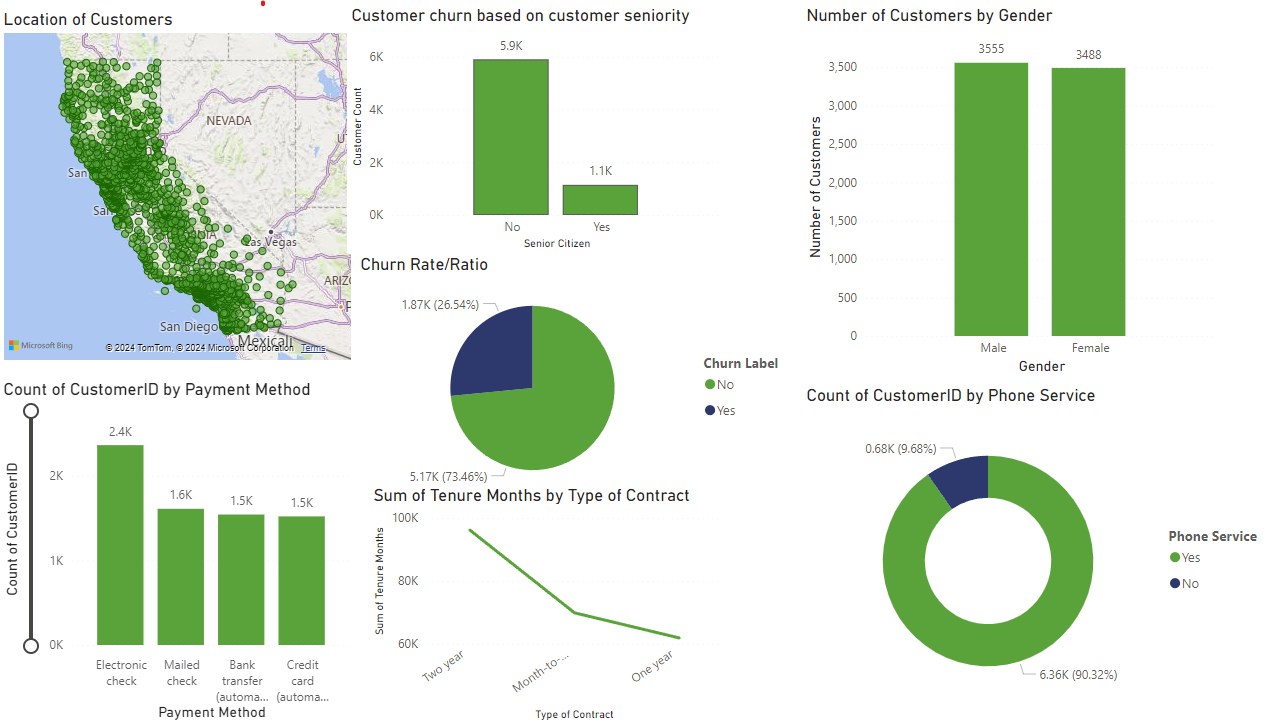

This screenshot's page, from the dashboard's own definition file:
{"tool":"powerbi","page":{"name":"Page 1","canvas":[1280,720],"ordinal":0},"visuals":[{"type":"pieChart","title":"Churn Rate/Ratio","fields":{"Category":["Telco_Churn.Churn Label"],"Y":["CountNonNull(Telco_Churn.CustomerID)"]},"box":[357,249,446,249],"z":0},{"type":"map","title":"Location of Customers","fields":{"Y":["Telco_Churn.Latitude"],"X":["Telco_Churn.Longitude"]},"box":[0,4,357,356],"z":1000},{"type":"columnChart","title":"Customer churn based on customer seniority","fields":{"Category":["Telco_Churn.Senior Citizen","Telco_Churn.Churn Label"],"Y":["CountNonNull(Telco_Churn.CustomerID)"]},"box":[348,0,379,249],"z":2000},{"type":"lineChart","fields":{"Category":["Telco_Churn.Contract"],"Y":["Sum(Telco_Churn.Tenure Months)"]},"box":[370,480,357,240],"z":3000},{"type":"columnChart","fields":{"Category":["Telco_Churn.Payment Method"],"Y":["CountNonNull(Telco_Churn.CustomerID)"]},"box":[0,374,357,346],"z":4000},{"type":"columnChart","fields":{"Category":["Telco_Churn.Gender"],"Y":["CountNonNull(Telco_Churn.CustomerID)"]},"box":[803,0,420,374],"z":5000},{"type":"donutChart","fields":{"Category":["Telco_Churn.Phone Service"],"Y":["CountNonNull(Telco_Churn.CustomerID)"]},"box":[803,380,477,333],"z":6000}]}

Visuals, with their boxes in screenshot pixels (x1, y1, x2, y2), scaled from the page's 1280x720 canvas onto the 1273x720 screenshot:
"Churn Rate/Ratio" pieChart: (x1=355, y1=249, x2=799, y2=498)
"Location of Customers" map: (x1=0, y1=4, x2=355, y2=360)
"Customer churn based on customer seniority" columnChart: (x1=346, y1=0, x2=723, y2=249)
lineChart - Telco_Churn.Contract x Sum(Telco_Churn.Tenure Months): (x1=368, y1=480, x2=723, y2=719)
columnChart - Telco_Churn.Payment Method x CountNonNull(Telco_Churn.CustomerID): (x1=0, y1=374, x2=355, y2=719)
columnChart - Telco_Churn.Gender x CountNonNull(Telco_Churn.CustomerID): (x1=799, y1=0, x2=1216, y2=374)
donutChart - Telco_Churn.Phone Service x CountNonNull(Telco_Churn.CustomerID): (x1=799, y1=380, x2=1272, y2=713)
